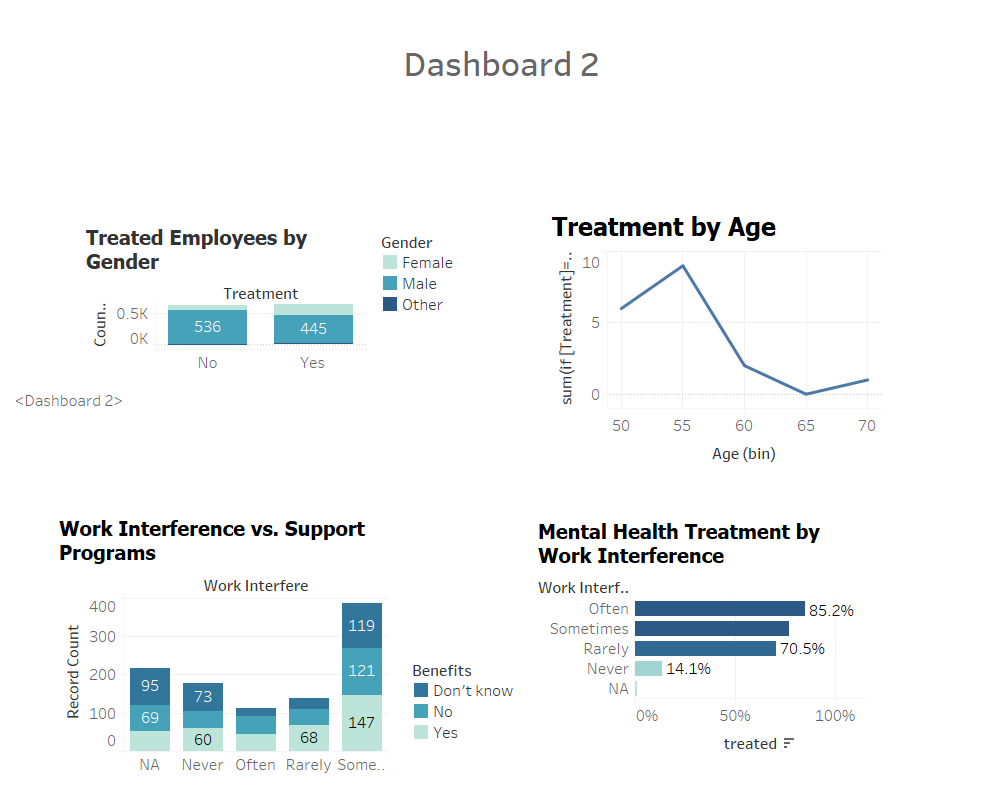

This screenshot's page, from the dashboard's own definition file:
{"tool":"tableau","page":{"name":"Dashboard 2","canvas":[1000,800],"ordinal":1},"visuals":[{"type":"worksheet","title":"V1 ","mark":"Bar","rows":["treatment"],"cols":["treatment"],"box":[100,33,284,155]},{"type":"legend","title":"V1 ","param":"[federated.1qjsn4l1bbmu8o1fbttjl05n6sso].[none:Calculation_1096345057160998914:n","box":[405,40,140,85]},{"type":"worksheet","title":"V6","mark":"Line","rows":["Calculation_2580844084597911571"],"cols":["Age (bin)"],"box":[548,205,333,266]},{"type":"worksheet","title":"V8","mark":"Bar","rows":["work_interfere"],"cols":["Calculation_1096345057169522692"],"box":[64,216,333,266]},{"type":"worksheet","title":"V3","mark":"Bar","rows":["Calculation_2580844084591390735"],"cols":["work_interfere"],"box":[55,510,333,266]},{"type":"legend","title":"V3","param":"[federated.1qjsn4l1bbmu8o1fbttjl05n6sso].[none:benefits:nk]","box":[411,658,140,85]}]}

Visuals, with their boxes in screenshot pixels (x1, y1, x2, y2), scaled from the page's 1000x800 canvas onto the 1000x800 screenshot:
"V1 " worksheet (Bar marks): [x1=100, y1=33, x2=384, y2=188]
"V1 " legend: [x1=405, y1=40, x2=545, y2=125]
"V6" worksheet (Line marks): [x1=548, y1=205, x2=881, y2=471]
"V8" worksheet (Bar marks): [x1=64, y1=216, x2=397, y2=482]
"V3" worksheet (Bar marks): [x1=55, y1=510, x2=388, y2=776]
"V3" legend: [x1=411, y1=658, x2=551, y2=743]
